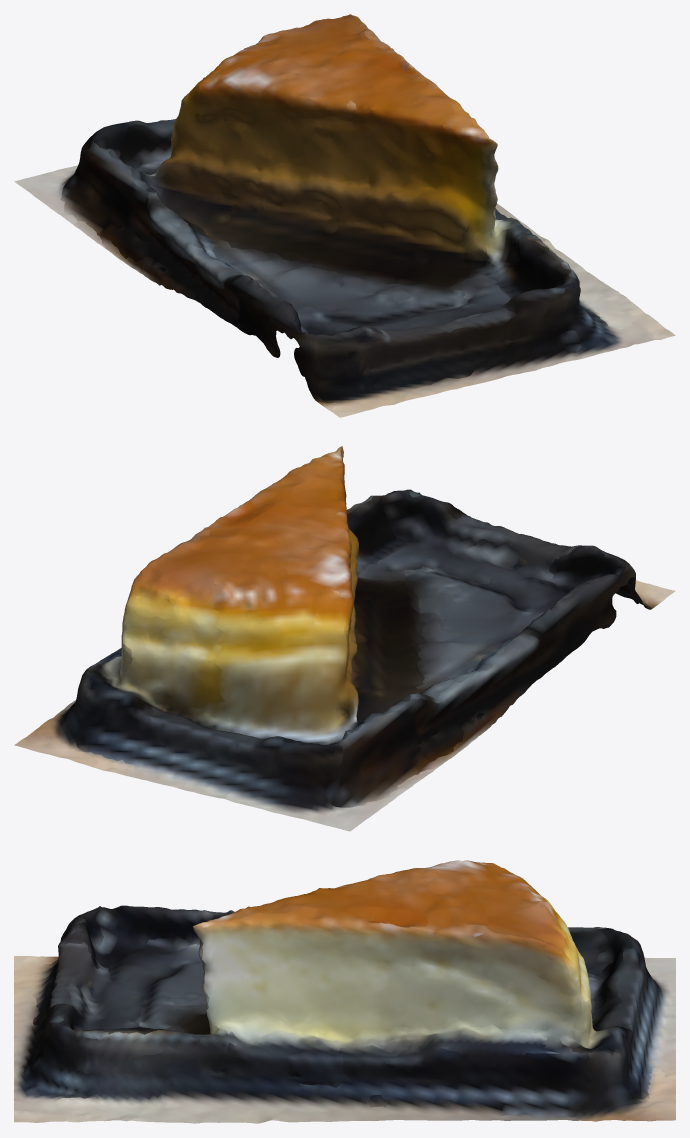
The model's file is asset.glb.
The picture shows the model from 3 angles, top to bottom: view 1: azimuth 30°, elevation 25°; view 2: azimuth 150°, elevation 25°; view 3: azimuth 270°, elevation 25°; orthographic projection.
Visible parts, largest first — view 1: mesh; view 2: mesh; view 3: mesh.
Boxes of the visible parts, x1,y1,x2,y2 form: mesh: (14,14,675,417); mesh: (14,446,675,831); mesh: (14,860,675,1123).
Bounding box in the file's own units: 0.1093 × 0.0508 × 0.1835.
Materials: 1 (1 with a texture image).
